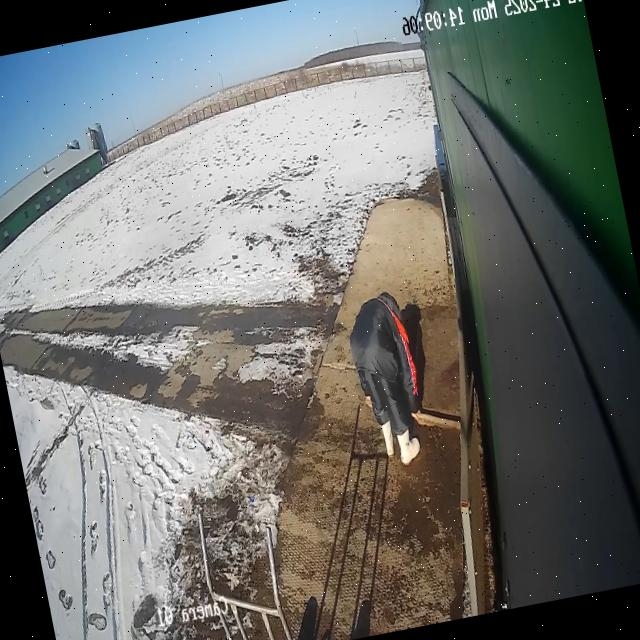Red uniform: (340, 283, 450, 474)
